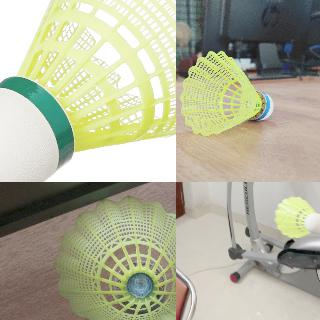shuttlecock: (0, 0, 175, 181), (54, 196, 175, 319), (179, 51, 273, 136), (273, 195, 319, 237)
